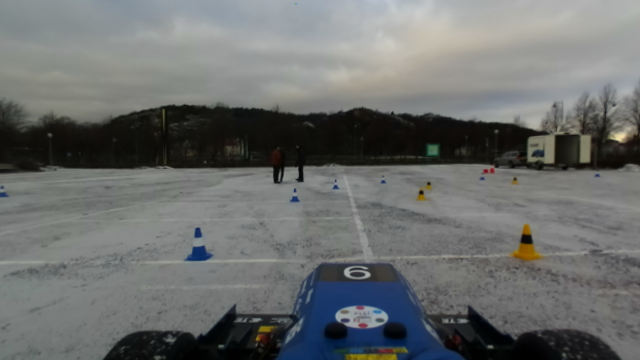blue: (184, 226, 213, 264)
yellow: (511, 225, 541, 264)
